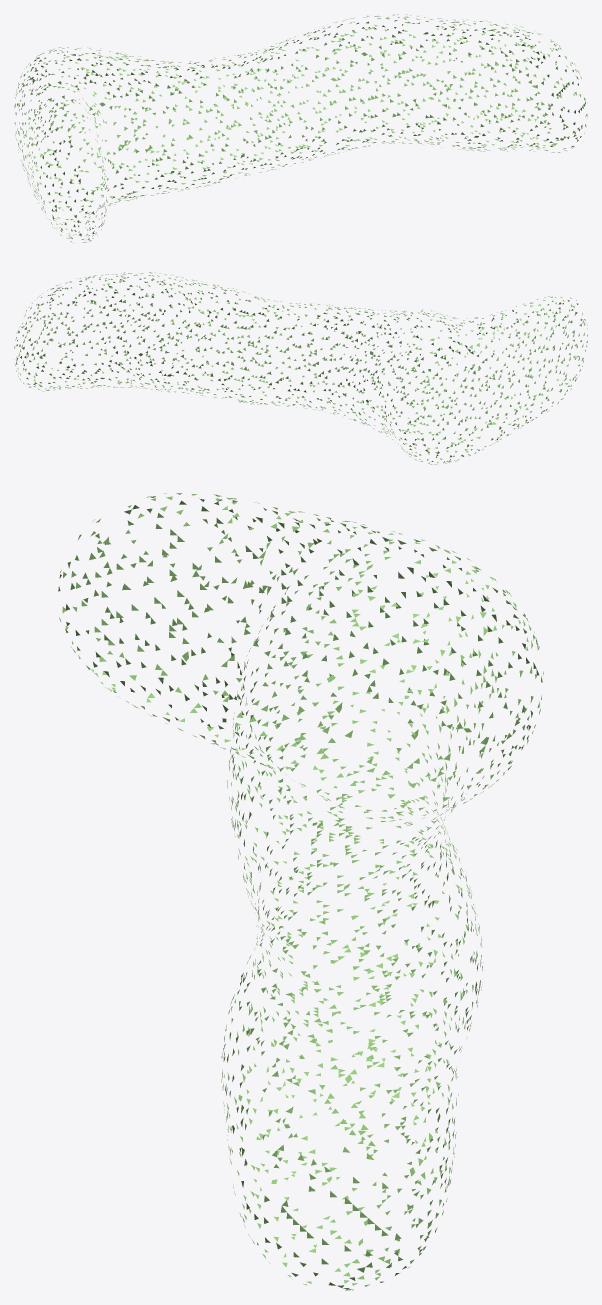
File: morph_014.glb
3 renders of one model, top to bottom at view 1: azimuth 30°, elevation 25°; view 2: azimuth 150°, elevation 25°; view 3: azimuth 270°, elevation 25°, orthographic. The views are drawn at different scales.
Bounding box in the file's own units: 112 × 37.29 × 47.77.
